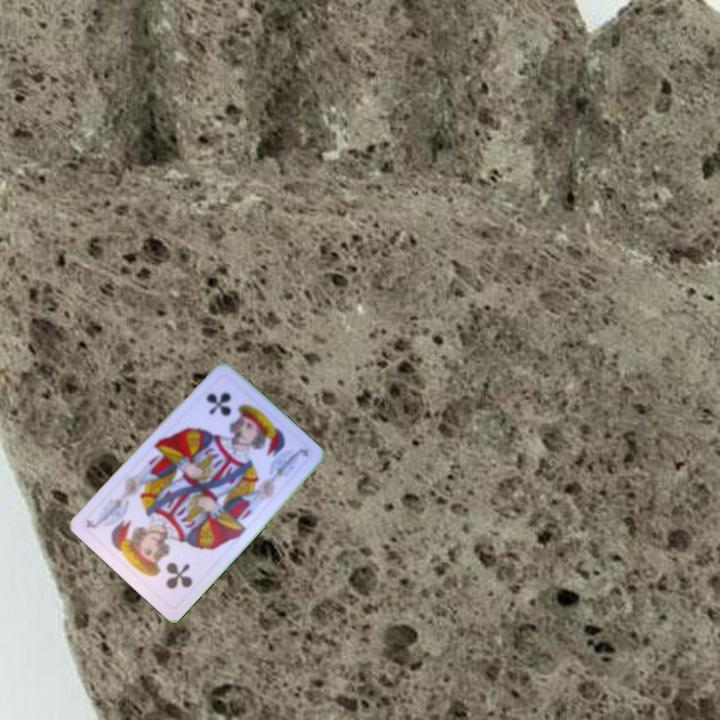c_j.png: (125, 525, 211, 611), (184, 371, 270, 456)
